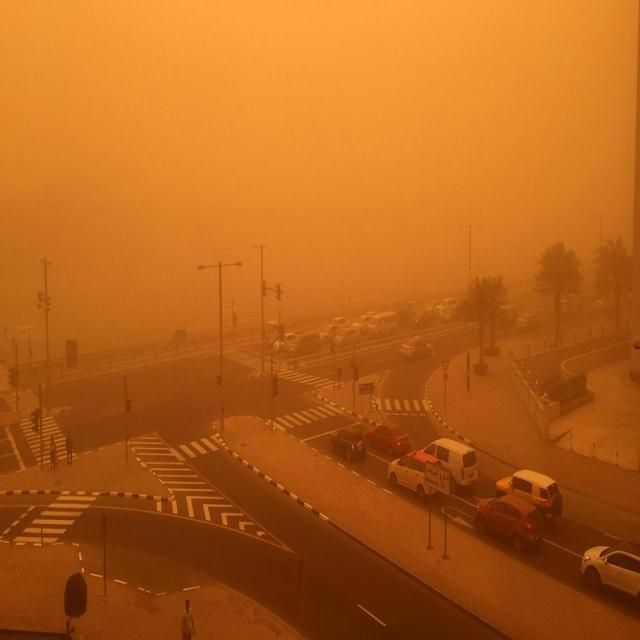Car: (580, 535, 640, 605), (471, 495, 550, 547), (496, 464, 563, 519), (385, 452, 444, 500), (332, 425, 366, 462), (368, 422, 410, 451), (398, 333, 436, 365), (290, 335, 324, 359), (331, 328, 365, 351), (515, 308, 536, 338), (445, 301, 473, 322), (435, 298, 464, 318), (322, 316, 351, 336), (272, 333, 302, 352), (427, 295, 453, 314), (353, 309, 371, 330)
Truck: (262, 314, 284, 351)
Van: (417, 437, 480, 499), (366, 312, 400, 339)
